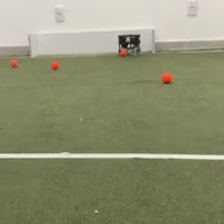ball: (161, 71, 172, 84), (51, 59, 59, 69), (10, 58, 18, 67), (120, 48, 126, 56)
goal: (27, 26, 156, 59)
robot: (118, 33, 142, 57)
